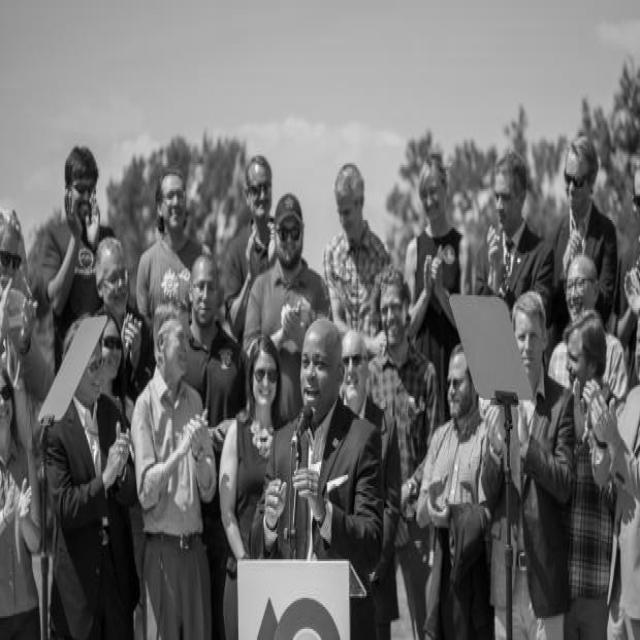person: (518, 302, 628, 640), (262, 345, 388, 638), (483, 291, 574, 640), (354, 284, 437, 636), (42, 343, 138, 640), (130, 321, 215, 640), (416, 339, 506, 640), (460, 309, 530, 637), (213, 336, 293, 614), (333, 343, 405, 638), (238, 201, 334, 413), (42, 142, 127, 353), (538, 135, 621, 336), (365, 270, 440, 475), (323, 165, 394, 358), (467, 153, 549, 315), (136, 172, 213, 328), (0, 375, 47, 630), (186, 251, 248, 431), (407, 140, 476, 296), (550, 257, 626, 394), (224, 154, 275, 339), (0, 195, 35, 346), (340, 357, 394, 450), (614, 250, 640, 396), (91, 233, 125, 321), (619, 165, 640, 306)
